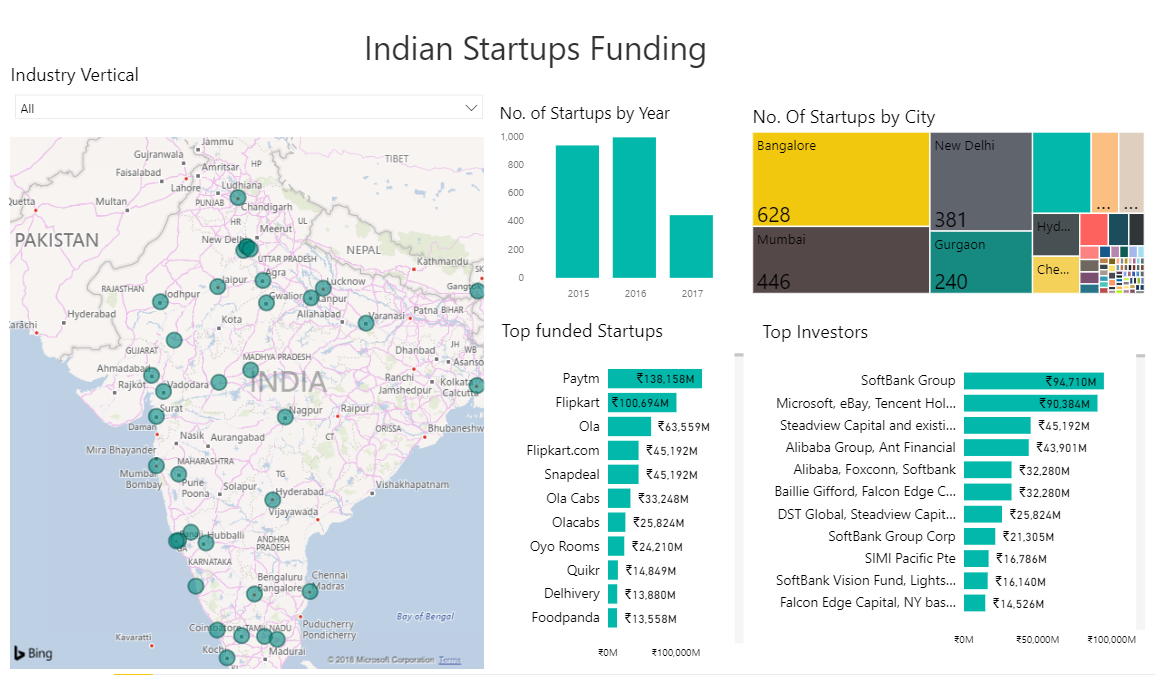

The page's visual inventory and layout, read from the dashboard file:
{"tool":"powerbi","page":{"name":"General Statistics","canvas":[1280,720],"ordinal":0},"visuals":[{"type":"slicer","fields":{"Values":["startup_funding.IndustryVertical"]},"box":[12.1,45.2,535.9,73.9],"z":0},{"type":"columnChart","fields":{"Category":["startup_funding.Date"],"Y":["startup_funding.StartupName"]},"box":[551.3,89.3,273.4,223.8],"z":2000},{"type":"barChart","fields":{"Category":["startup_funding.StartupName"],"Y":["startup_funding.AmountInINR"]},"box":[553.5,327.5,276.8,388.1],"z":3000},{"type":"barChart","fields":{"Category":["startup_funding.InvestorsName"],"Y":["startup_funding.AmountInINR"]},"box":[841.3,328.6,432.2,371.6],"z":3000},{"type":"textbox","box":[17,0,1159,60],"z":4000},{"type":"map","fields":{"Category":["startup_funding.CityLocation"]},"box":[11,123,533,597],"z":4500},{"type":"treemap","fields":{"Group":["startup_funding.CityLocation"],"Values":["startup_funding.StartupName"]},"box":[830.3,91.5,442.1,215],"z":4501}]}

Visuals, with their boxes on the page's 1280x720 design canvas (x1, y1, x2, y2). These are canvas units, not pixel positions in the 1155x675 screenshot, which may show the page scaled, cropped or inside an application window:
slicer - startup_funding.IndustryVertical: rect(12, 45, 548, 119)
columnChart - startup_funding.Date x startup_funding.StartupName: rect(551, 89, 825, 313)
barChart - startup_funding.StartupName x startup_funding.AmountInINR: rect(554, 328, 830, 716)
barChart - startup_funding.InvestorsName x startup_funding.AmountInINR: rect(841, 329, 1274, 700)
textbox: rect(17, 0, 1176, 60)
map - startup_funding.CityLocation: rect(11, 123, 544, 720)
treemap - startup_funding.CityLocation x startup_funding.StartupName: rect(830, 92, 1272, 306)
